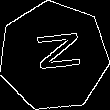N_W: (26, 34, 81, 79)
